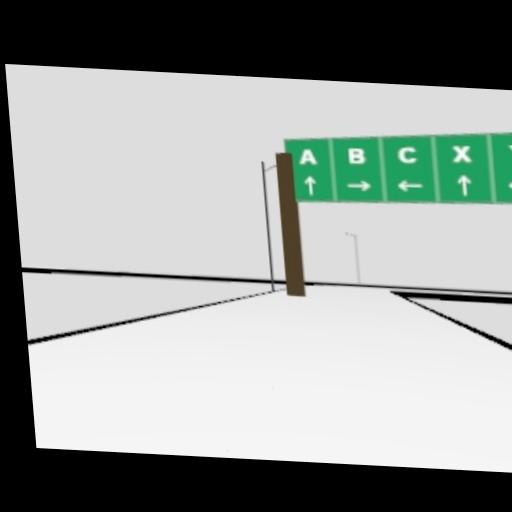A: (298, 148, 317, 165)
B: (347, 146, 366, 163)
C: (396, 144, 418, 163)
Left: (394, 180, 423, 193), (507, 179, 512, 191)
Right: (346, 180, 371, 192)
Straight: (456, 173, 472, 195), (304, 175, 316, 196)
X: (450, 144, 471, 163)
Y: (508, 142, 512, 161)
